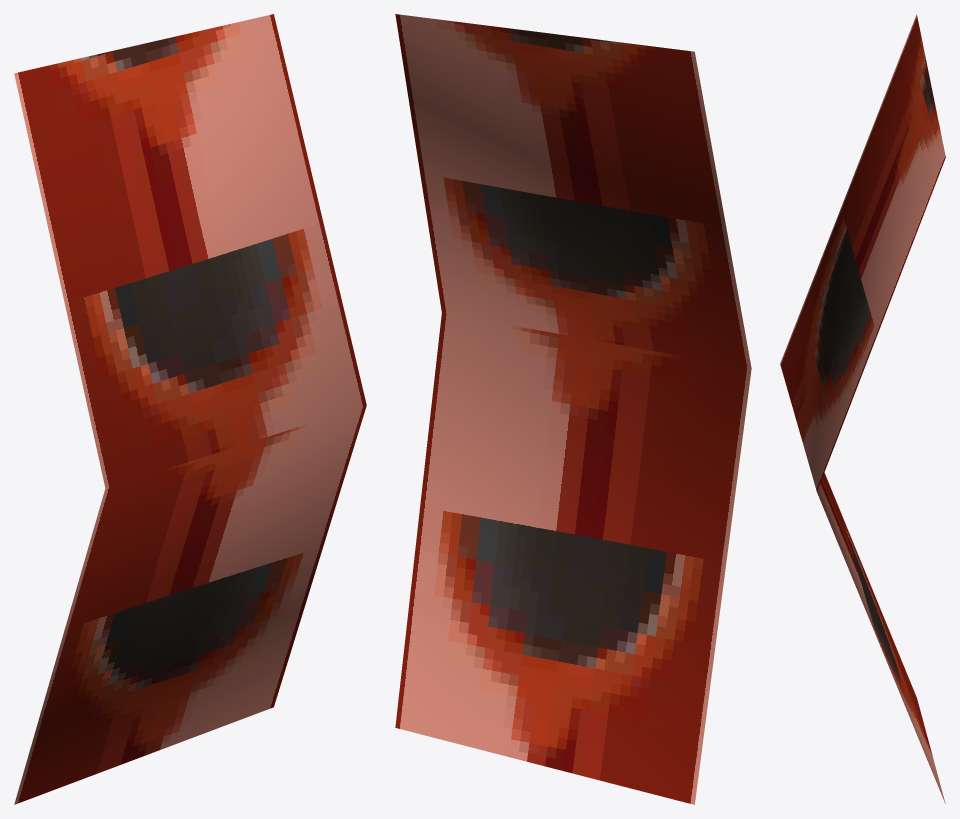
The model's file is acc_shade_huge.dae.
The picture shows the model from 3 angles, left to right: view 1: azimuth 30°, elevation 25°; view 2: azimuth 150°, elevation 25°; view 3: azimuth 270°, elevation 25°; orthographic projection. The views are drawn at different scales.
Visible parts, largest first — view 1: acc_shade_huge; view 2: acc_shade_huge; view 3: acc_shade_huge.
Boxes of the visible parts, x1,y1,x2,y2 form: acc_shade_huge: (14, 14, 366, 804); acc_shade_huge: (395, 14, 751, 804); acc_shade_huge: (780, 14, 945, 803).
Bounding box in the file's own units: 10.47 × 24.48 × 5.38.
Materials: 1 (1 with a texture image).
